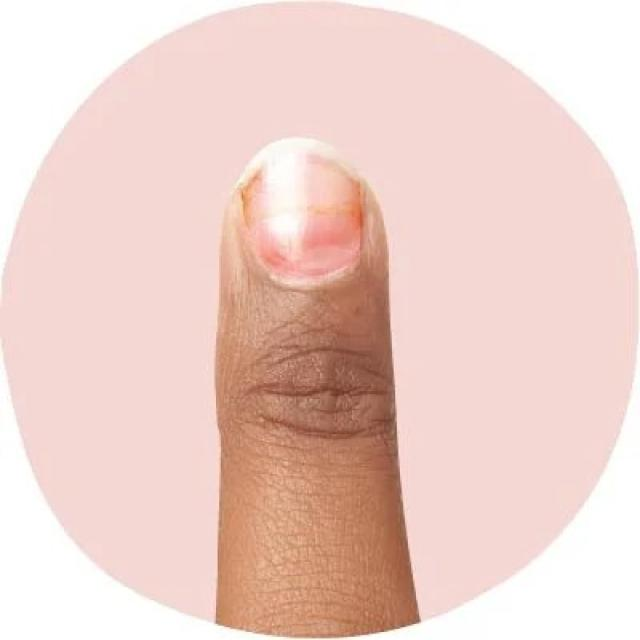nail: (240, 144, 365, 286)
